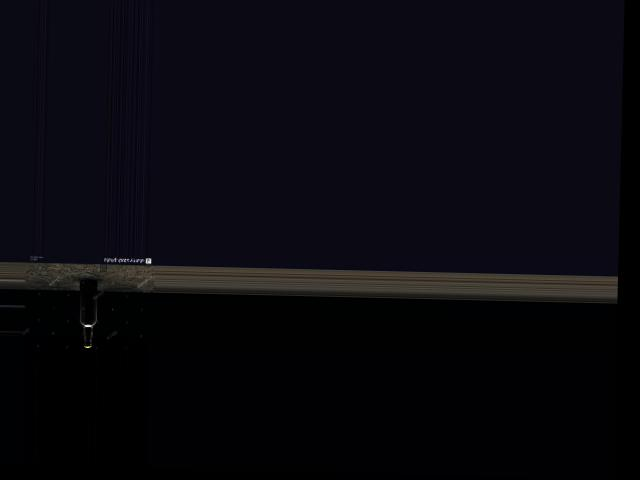beer: (78, 279, 95, 347)
